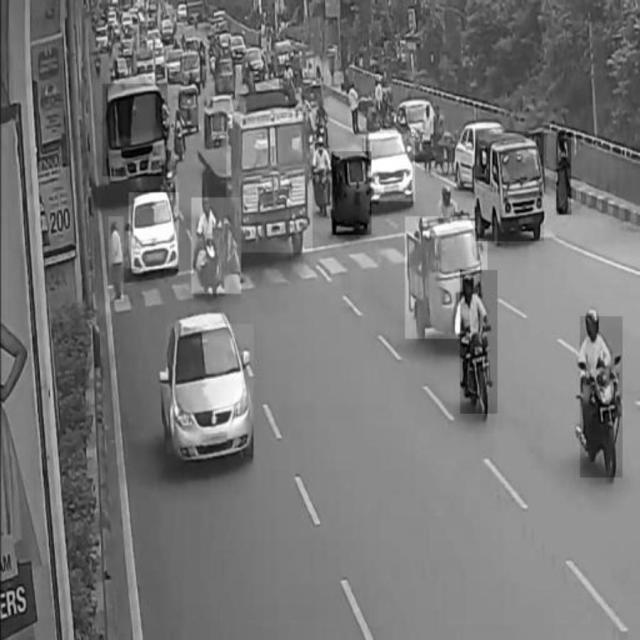accident: (191, 198, 241, 294)
person: (109, 217, 124, 301), (557, 133, 572, 215)
vehicle: (227, 112, 313, 253), (166, 324, 254, 454), (405, 216, 488, 338), (475, 132, 543, 242), (581, 317, 623, 477), (103, 84, 167, 176), (460, 270, 497, 414), (129, 193, 179, 269), (332, 152, 372, 235), (370, 135, 415, 202)
